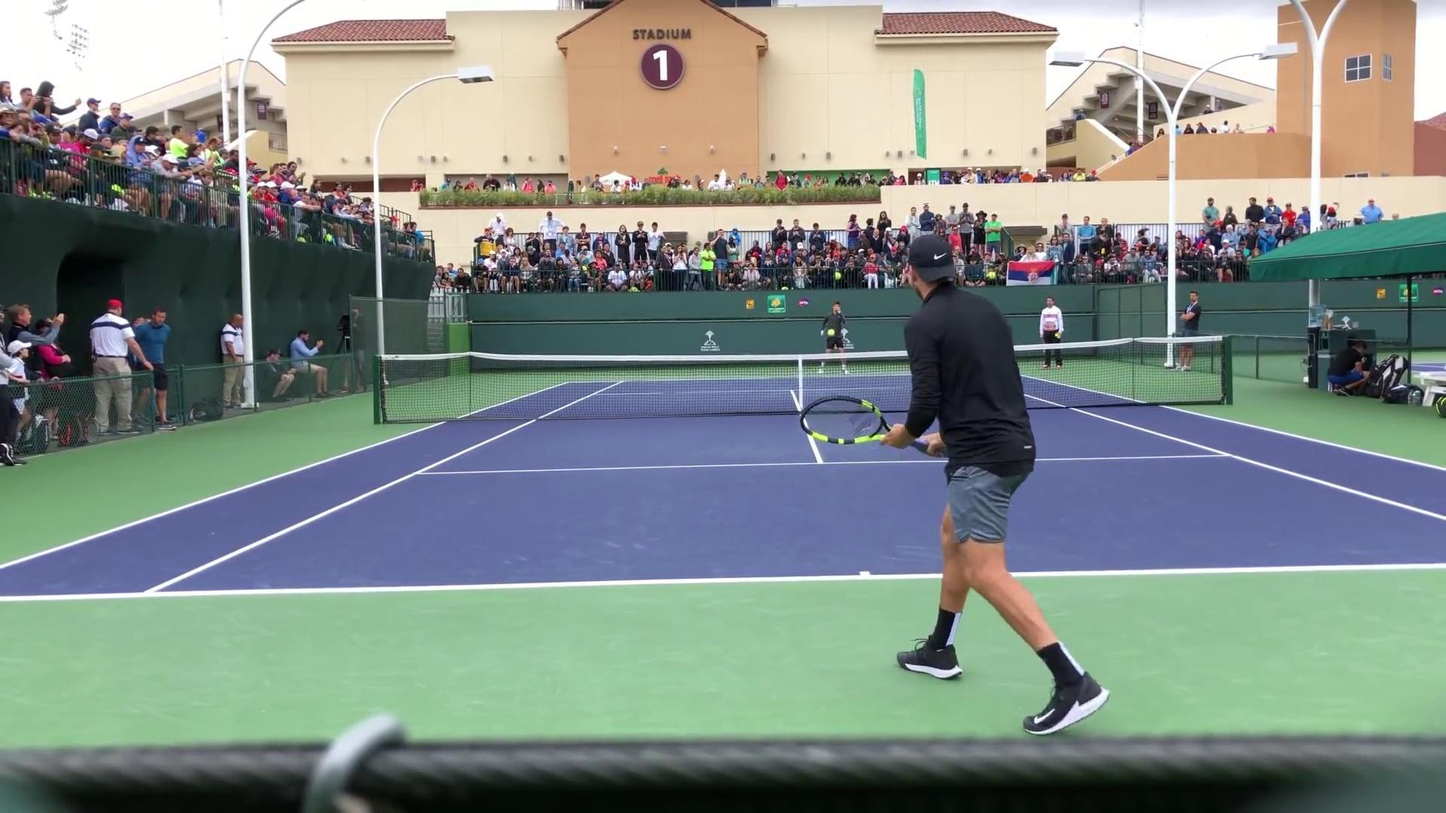ball: (823, 329, 836, 336)
